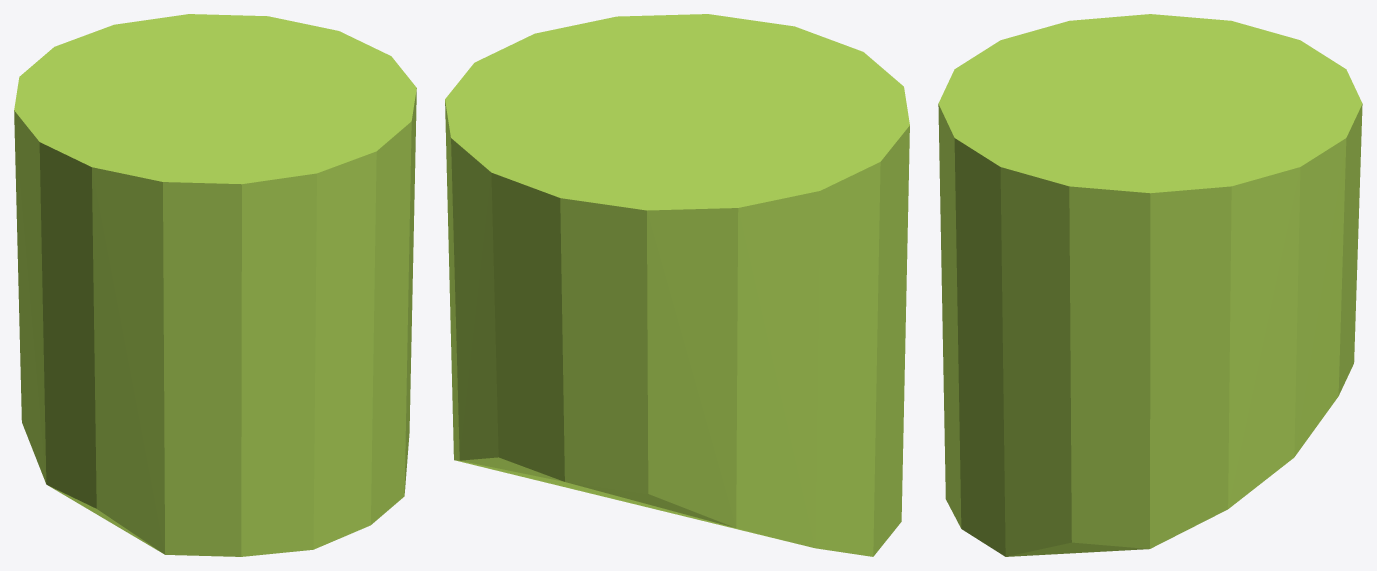
Rendered from ur10_e_link_3_coll_5.dae.
3 renders of one model, left to right at view 1: azimuth 30°, elevation 25°; view 2: azimuth 150°, elevation 25°; view 3: azimuth 270°, elevation 25°, orthographic. The views are drawn at different scales.
Parts seen in each view (by area): view 1: node; view 2: node; view 3: node.
Part boxes in pixels (left/top/right/bottom): node: left=14, top=14, right=416, bottom=556; node: left=445, top=14, right=909, bottom=556; node: left=938, top=14, right=1362, bottom=556.
Size of the model in its own units: 0.116 by 0.1194 by 0.116.
